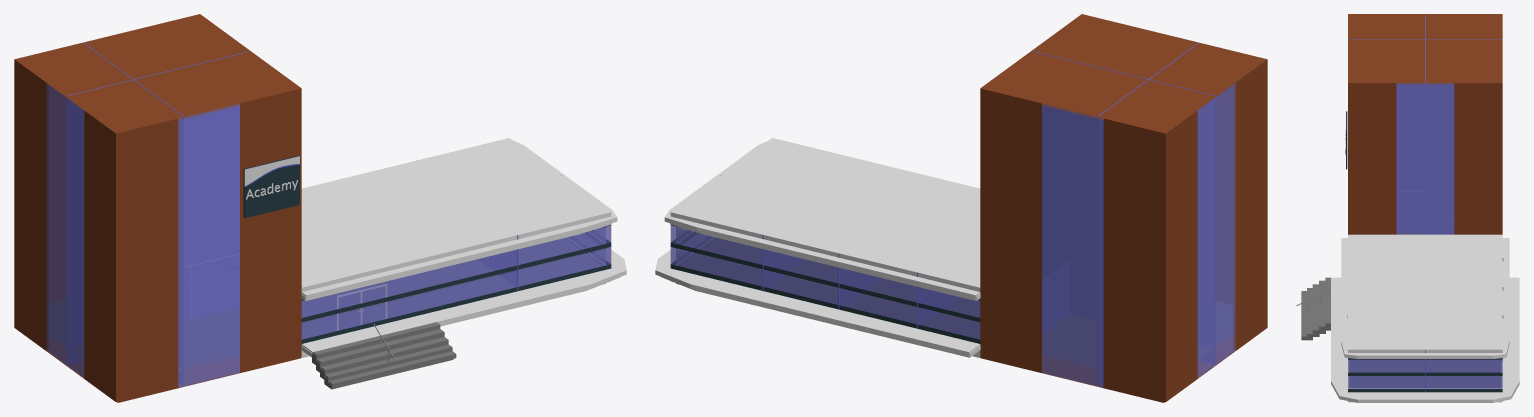
The model's file is academy 3.fbx.
3 renders of one model, left to right at view 1: azimuth 30°, elevation 25°; view 2: azimuth 150°, elevation 25°; view 3: azimuth 270°, elevation 25°, orthographic. The views are drawn at different scales.
Visible parts, largest first — view 1: pCube12, pCube1, pCube28, pPlane1, pCube11, pCube19, pCube17; view 2: pCube12, pCube1, pCube28, pPlane1, pCube13, pCube18, pCube27, pCube16, pCube15, pCube14; view 3: pCube12, pCube1, pCube19, pCube27, pPlane1, pCube18.
Part boxes in pixels (<box>): pCube12: <box>14,14,626,402</box>; pCube1: <box>46,83,620,402</box>; pCube28: <box>67,51,249,364</box>; pPlane1: <box>49,238,601,369</box>; pCube11: <box>243,155,299,218</box>; pCube19: <box>133,80,183,384</box>; pCube17: <box>478,235,518,291</box>; pCube12: <box>655,14,1267,402</box>; pCube1: <box>661,83,1235,402</box>; pCube28: <box>1032,51,1214,364</box>; pPlane1: <box>680,238,1232,369</box>; pCube13: <box>720,175,1205,346</box>; pCube18: <box>1042,261,1069,333</box>; pCube27: <box>1098,79,1148,384</box>; pCube16: <box>762,235,805,291</box>; pCube15: <box>838,253,881,309</box>; pCube14: <box>917,272,959,328</box>; pCube12: <box>1301,14,1519,402</box>; pCube1: <box>1302,83,1502,388</box>; pCube19: <box>1349,39,1424,231</box>; pCube27: <box>1425,39,1501,219</box>; pPlane1: <box>1349,232,1500,387</box>; pCube18: <box>1426,220,1453,233</box>.
Bounding box in the file's own units: 11.72 × 6.07 × 5.79.
